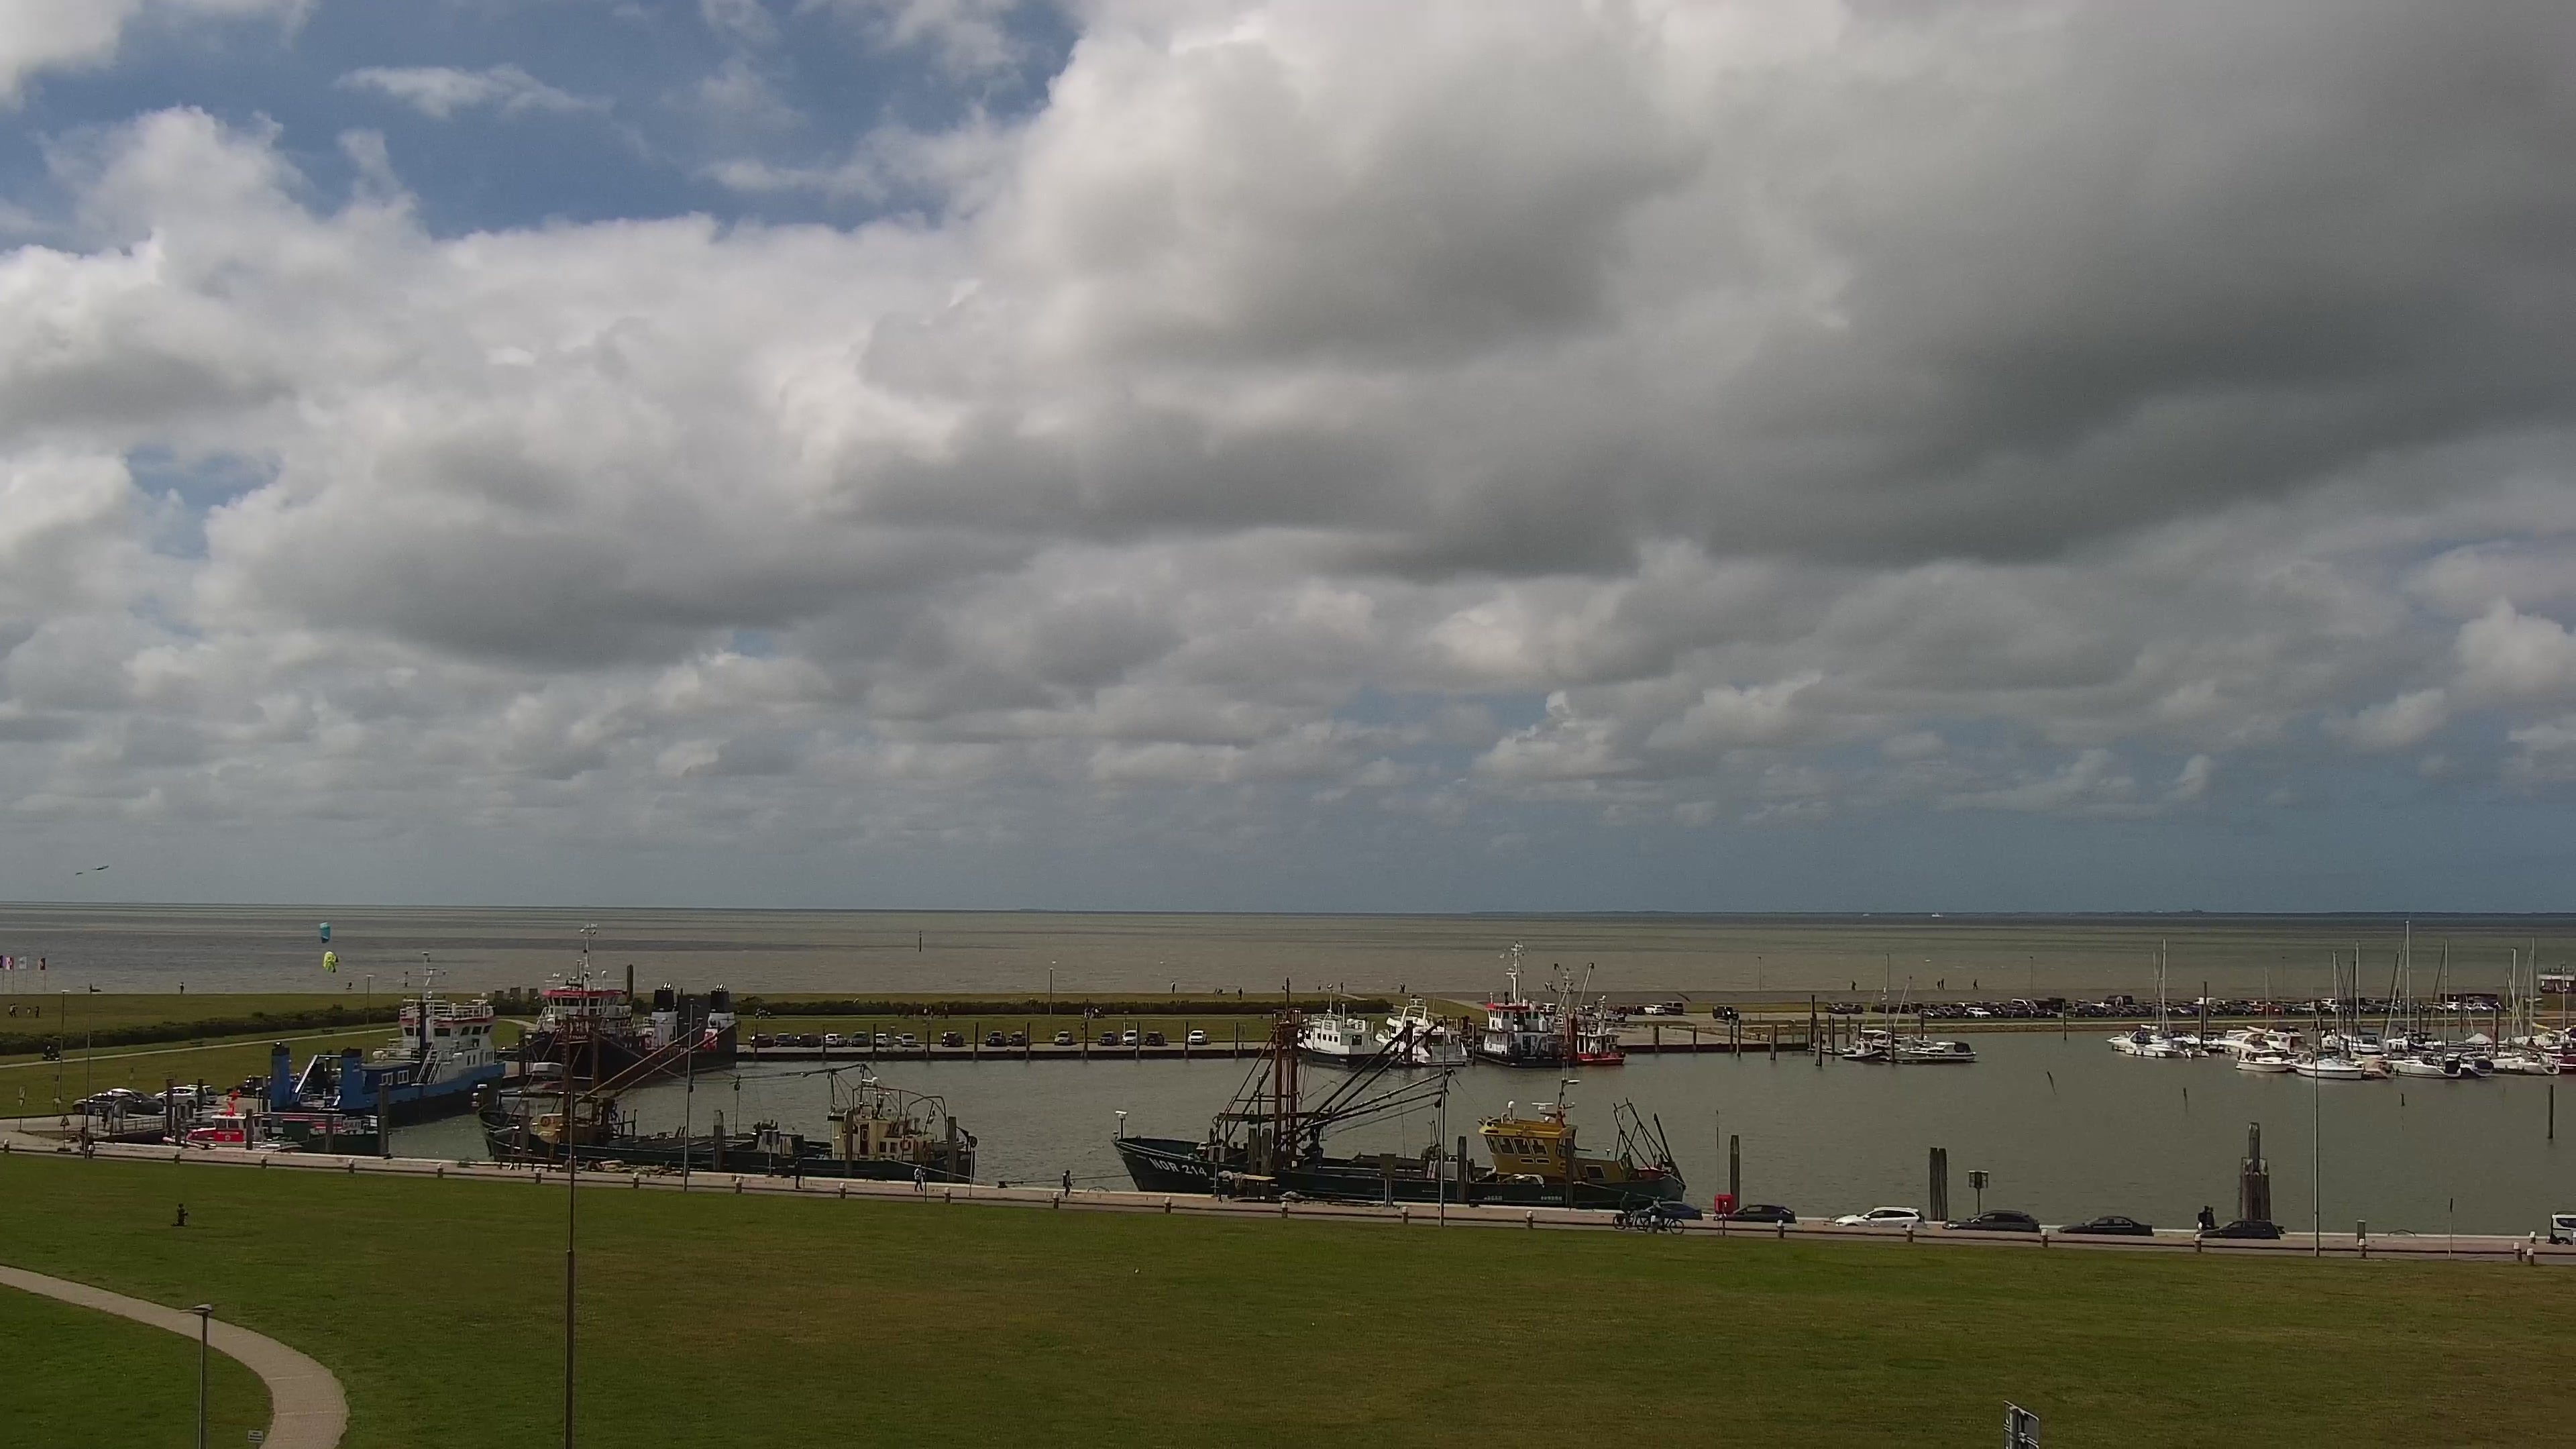human: (1652, 1195, 1665, 1232), (1619, 1191, 1632, 1225), (1061, 1169, 1075, 1200), (2196, 1204, 2209, 1230), (912, 1164, 924, 1193), (78, 1124, 87, 1149), (794, 1157, 802, 1189), (2206, 1205, 2215, 1230), (101, 1106, 109, 1130), (943, 1003, 950, 1019), (34, 1005, 40, 1019), (1097, 1005, 1104, 1019), (1170, 980, 1177, 995), (1237, 987, 1243, 1001), (8, 1002, 13, 1017), (11, 1002, 17, 1017), (179, 980, 184, 995), (928, 1005, 933, 1020), (1083, 1006, 1089, 1020), (1851, 980, 1857, 991), (1094, 1007, 1099, 1019), (1545, 980, 1550, 993), (1972, 977, 1978, 989), (1402, 983, 1406, 993), (1549, 979, 1553, 991), (1940, 977, 1945, 990), (923, 1007, 928, 1019), (1089, 1007, 1094, 1019), (1340, 981, 1344, 993), (1400, 981, 1403, 994), (89, 982, 93, 993), (1937, 979, 1941, 989)
land: (1942, 1209, 2041, 1232), (2057, 1214, 2153, 1236), (1834, 1205, 1925, 1228), (1713, 1202, 1796, 1224), (105, 1087, 162, 1115), (2199, 1220, 2279, 1239), (71, 1092, 134, 1114), (1643, 1200, 1702, 1218), (154, 1086, 204, 1108), (2548, 1211, 2576, 1246), (1642, 1210, 1685, 1234), (1611, 1205, 1650, 1230), (182, 1082, 217, 1104), (235, 1079, 264, 1098), (1712, 1004, 1739, 1021), (848, 1030, 870, 1047), (984, 1030, 1006, 1046), (941, 1030, 963, 1046), (1097, 1030, 1118, 1046), (2104, 994, 2134, 1006), (749, 1033, 773, 1048), (1966, 1006, 1991, 1018), (2010, 998, 2037, 1011), (2124, 1004, 2148, 1017), (2011, 1004, 2036, 1018), (1008, 1030, 1027, 1047), (1144, 1031, 1165, 1047), (1187, 1030, 1208, 1045), (1663, 1000, 1684, 1015), (798, 1032, 821, 1047), (824, 1032, 847, 1047), (1053, 1030, 1073, 1046), (2047, 996, 2066, 1012), (1824, 1002, 1847, 1014), (774, 1032, 795, 1047), (1643, 1004, 1664, 1016), (1870, 1002, 1891, 1014), (1936, 1006, 1956, 1018), (2221, 1003, 2242, 1016), (2424, 1000, 2445, 1012), (1122, 1030, 1138, 1046), (1917, 1008, 1941, 1019), (2294, 1003, 2316, 1014), (1627, 1004, 1646, 1016), (1843, 1002, 1864, 1014), (1889, 1002, 1909, 1013), (1953, 1007, 1973, 1019), (2312, 1002, 2331, 1014), (2323, 1001, 2342, 1014), (875, 1032, 890, 1047), (901, 1032, 916, 1048), (1989, 1005, 2004, 1018), (2112, 1005, 2130, 1017), (2139, 1003, 2157, 1016), (2191, 997, 2215, 1005), (2206, 1004, 2224, 1016), (2339, 1003, 2357, 1015), (2444, 1000, 2461, 1012), (2064, 1006, 2084, 1018), (2082, 1004, 2102, 1016), (2032, 998, 2051, 1009), (2098, 1005, 2115, 1016), (1909, 1002, 1923, 1013), (2173, 1006, 2192, 1016), (1610, 1004, 1626, 1015), (2157, 1004, 2173, 1016), (2039, 1008, 2058, 1018), (2267, 1004, 2281, 1015), (2090, 1000, 2111, 1007), (2186, 1005, 2200, 1015), (2240, 1004, 2255, 1015), (2462, 1002, 2477, 1012), (2281, 1004, 2296, 1014), (2476, 1002, 2493, 1011), (2364, 998, 2383, 1004), (2251, 1005, 2263, 1015), (2358, 1004, 2370, 1014), (2371, 1004, 2384, 1014), (1992, 1000, 2008, 1006), (2064, 1000, 2080, 1007), (2214, 998, 2232, 1005), (2247, 999, 2266, 1006), (2319, 997, 2339, 1002), (1923, 1002, 1938, 1008), (1973, 1000, 1990, 1006), (1955, 1001, 1970, 1006), (2231, 999, 2248, 1004)
sea: (1108, 1007, 1686, 1208), (477, 1008, 977, 1183), (477, 922, 739, 1097), (270, 950, 506, 1106), (1473, 938, 1572, 1069), (2104, 937, 2193, 1059), (2380, 919, 2445, 1049), (2294, 950, 2361, 1079), (1296, 983, 1390, 1069), (1552, 962, 1625, 1066), (1854, 953, 1921, 1055), (1375, 991, 1467, 1066), (252, 1112, 382, 1156), (2423, 938, 2476, 1046), (162, 1112, 303, 1150), (2506, 935, 2551, 1047), (2337, 940, 2380, 1054), (2532, 962, 2576, 1070), (1884, 974, 1932, 1059), (2245, 965, 2290, 1035), (2379, 1048, 2461, 1077), (2488, 1049, 2559, 1075), (2203, 1031, 2271, 1054), (1907, 1040, 1976, 1061), (2259, 1026, 2313, 1053), (2436, 1053, 2493, 1077), (2233, 1048, 2291, 1071), (1841, 1037, 1882, 1061), (2166, 1029, 2200, 1045), (1806, 1040, 1836, 1054), (1931, 911, 1943, 917)
